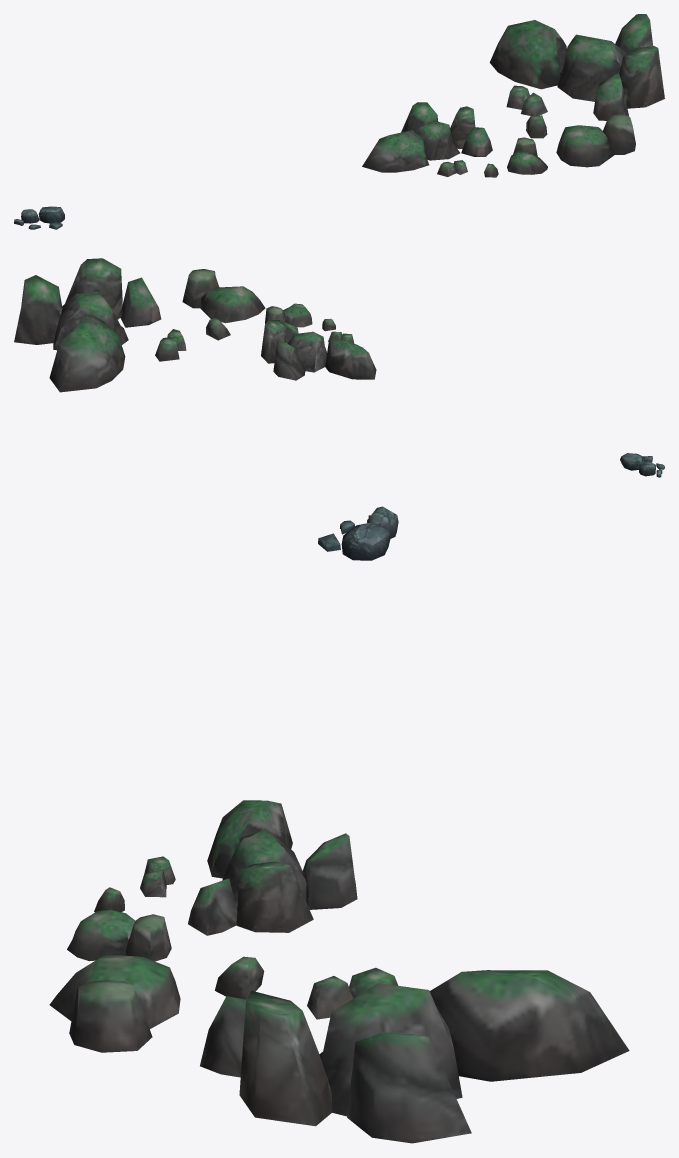
The model's file is Area_13_45.fbx.
The picture shows the model from 3 angles, top to bottom: view 1: azimuth 30°, elevation 25°; view 2: azimuth 150°, elevation 25°; view 3: azimuth 270°, elevation 25°; orthographic projection. The views are drawn at different scales.
Visible parts, largest first — view 1: Area_13_45; view 2: Area_13_45; view 3: Area_13_45.
Part boxes in pixels (x1=…): Area_13_45: x1=14, y1=14, x2=664, y2=229; Area_13_45: x1=14, y1=258, x2=664, y2=477; Area_13_45: x1=49, y1=506, x2=629, y2=1143.
Size of the model in its own units: 3995 by 306 by 1578.
